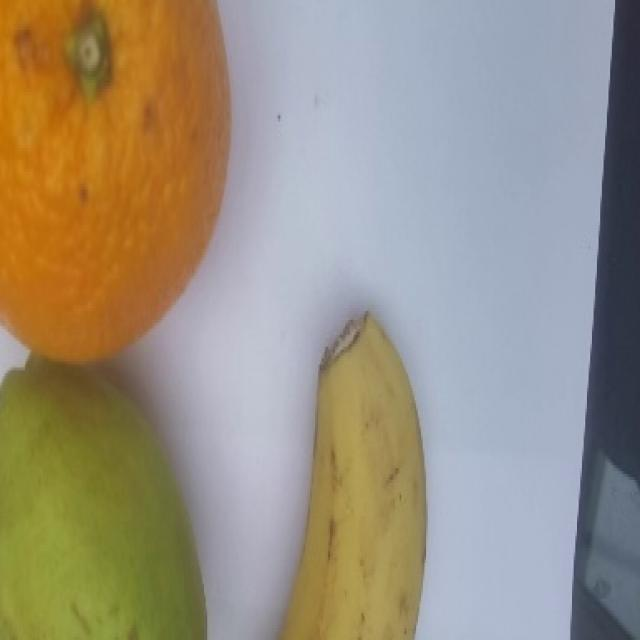Banana: (284, 308, 428, 640)
Orange: (0, 0, 237, 369)
